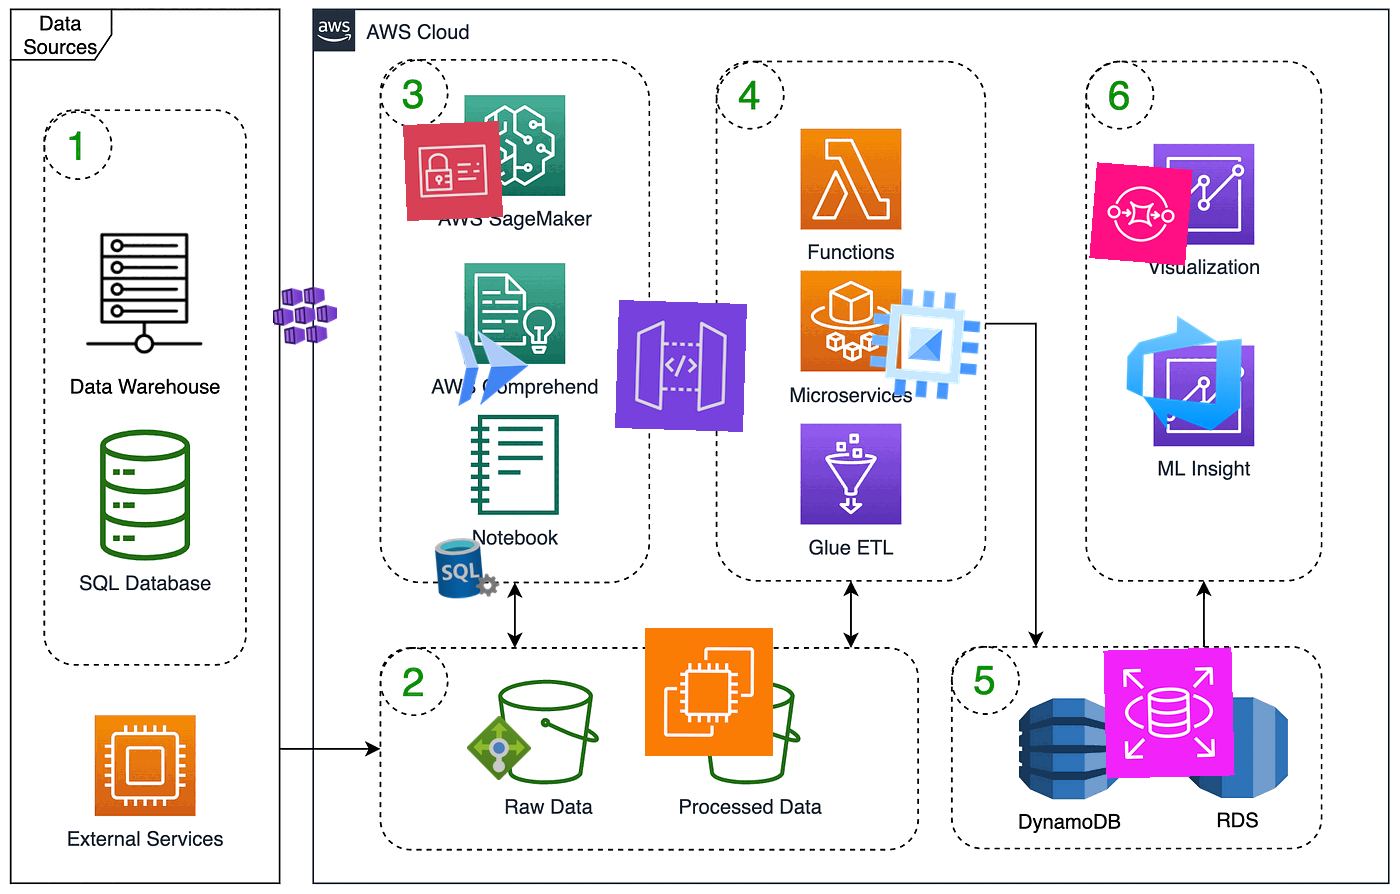aws_amazon_api_gateway: (615, 300, 747, 432)
aws_amazon_ec2: (644, 627, 774, 757)
aws_amazon_rds: (1103, 647, 1235, 779)
aws_amazon_simple_queue_service: (1089, 162, 1193, 266)
aws_identity_and_access_management: (402, 120, 504, 222)
azure_devops: (1118, 307, 1250, 439)
azure_kubernetes_services: (270, 280, 340, 350)
azure_load_balancers: (466, 715, 532, 781)
azure_sql_server: (432, 533, 502, 603)
gcp_cloud_run: (440, 316, 542, 418)
gcp_compute_engine: (855, 274, 995, 414)
